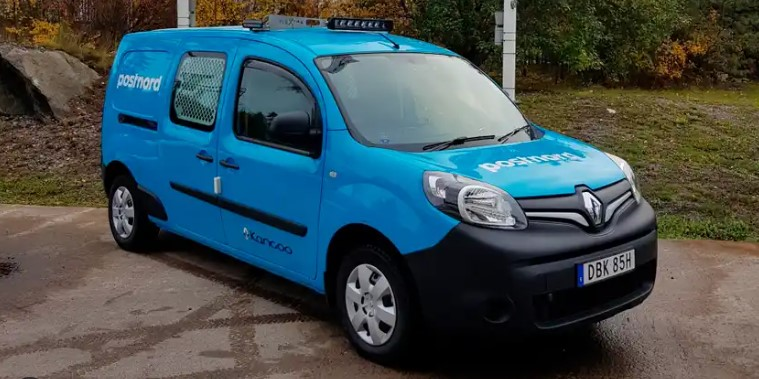postnord: (98, 15, 660, 366)
